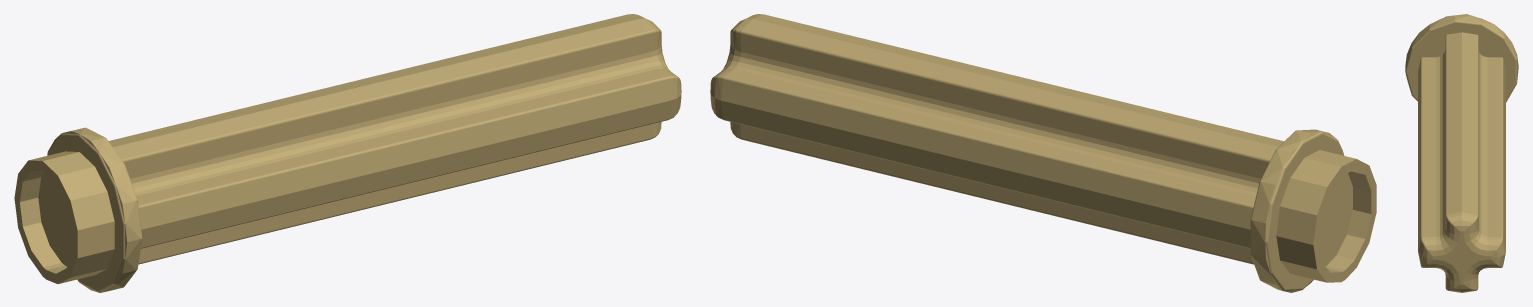
Rendered from Sand_6031821_JCA.fbx.
3 views of the same model, side by side, from view 1: azimuth 30°, elevation 25°; view 2: azimuth 150°, elevation 25°; view 3: azimuth 270°, elevation 25° (orthographic). The views are drawn at different scales.
Parts seen in each view (by area): view 1: Sand_6031821_JCA; view 2: Sand_6031821_JCA; view 3: Sand_6031821_JCA.
Part boxes in pixels (box(x1,y1,x2,y2)): Sand_6031821_JCA: box(14, 14, 681, 292); Sand_6031821_JCA: box(710, 14, 1376, 292); Sand_6031821_JCA: box(1405, 14, 1518, 292).
Bounding box in the file's own units: 2.64 × 0.6155 × 0.62.
